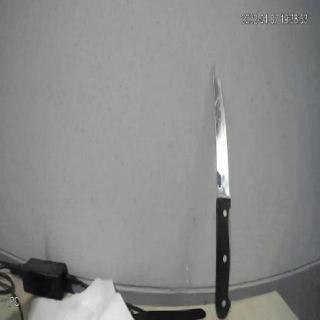knife: (195, 61, 249, 319)
